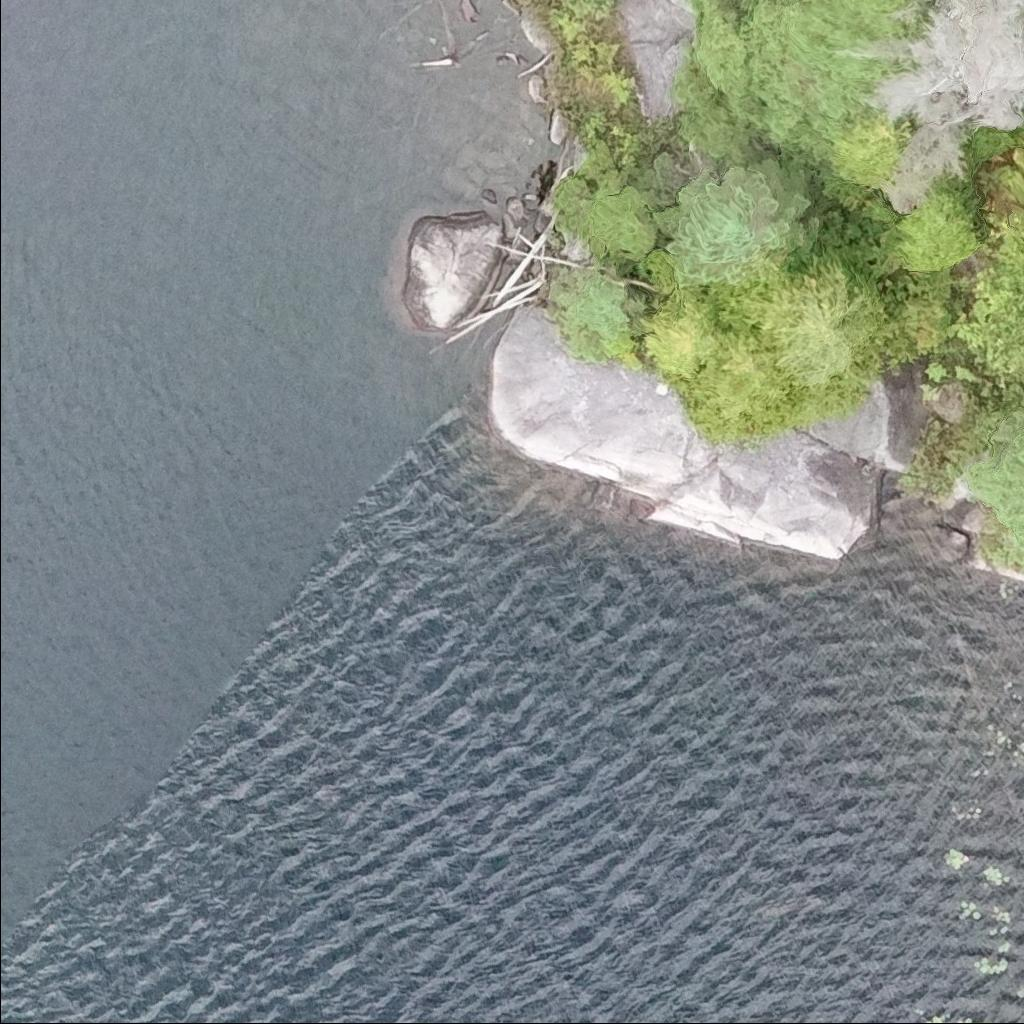crown: (839, 0, 1023, 219), (695, 245, 888, 395), (651, 154, 825, 296), (698, 0, 870, 143), (671, 330, 798, 441), (783, 0, 911, 97), (548, 264, 650, 368), (952, 260, 1023, 389), (638, 288, 720, 382), (969, 432, 1023, 568), (586, 183, 658, 262), (1002, 139, 1023, 207), (739, 0, 754, 5), (689, 0, 703, 5)
